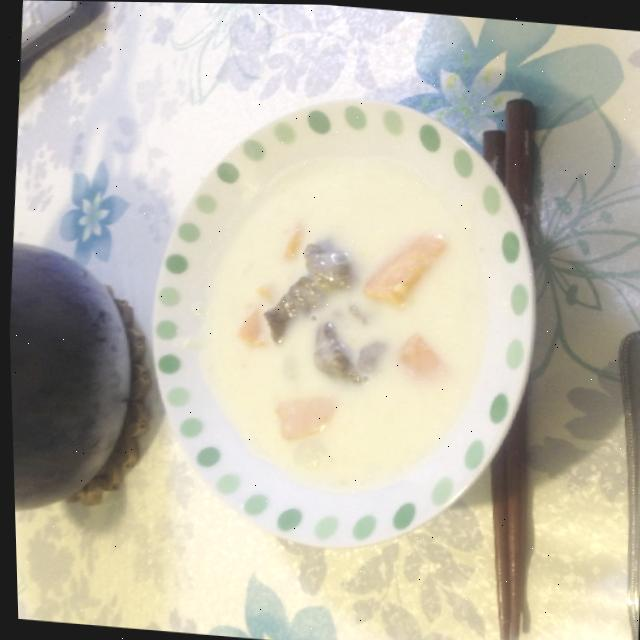汤锅炖物: (125, 78, 553, 563)
